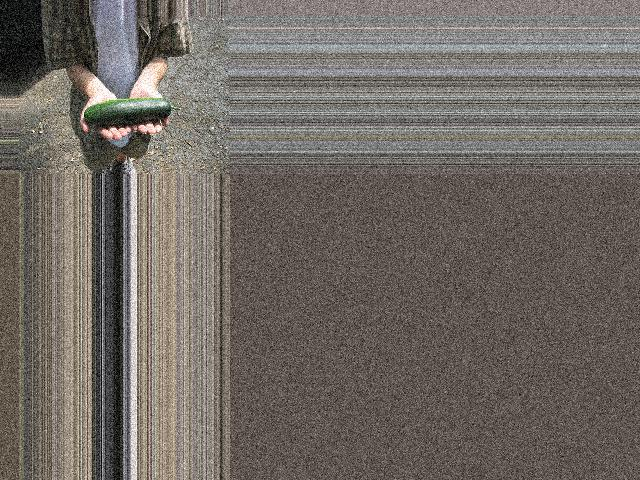cucumber: (85, 98, 182, 126)
